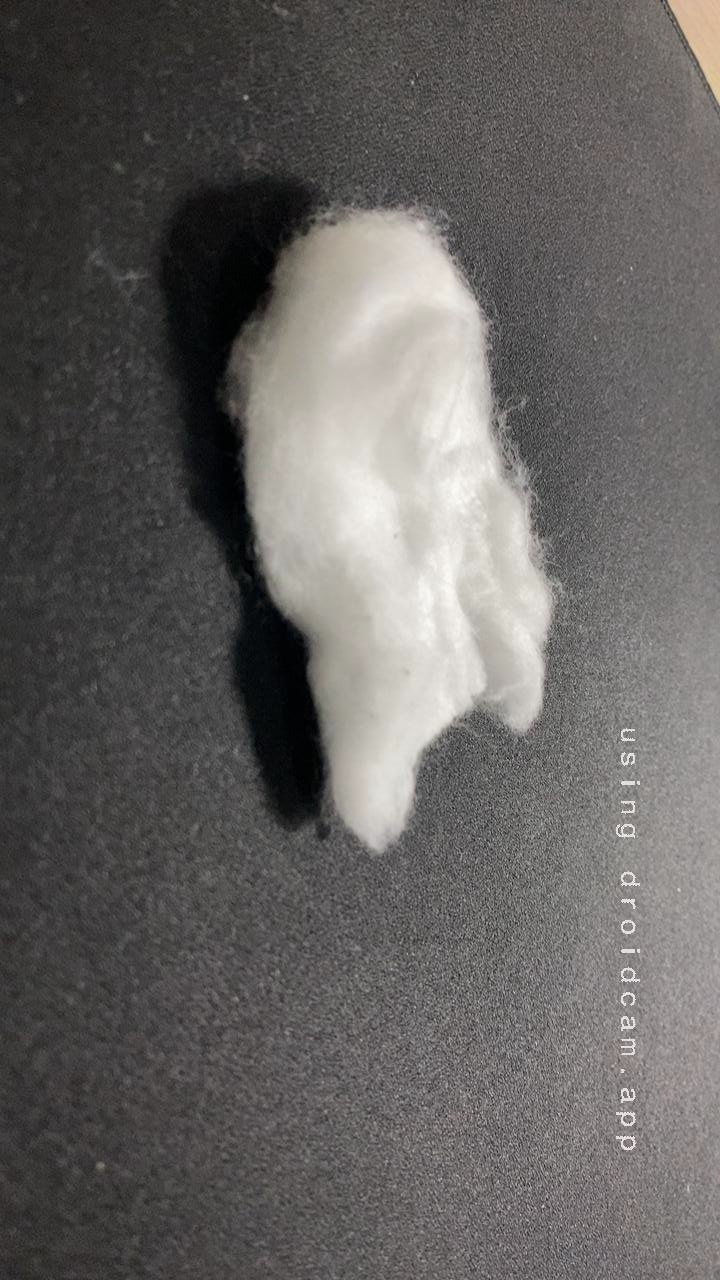cotton: (177, 185, 633, 889)
